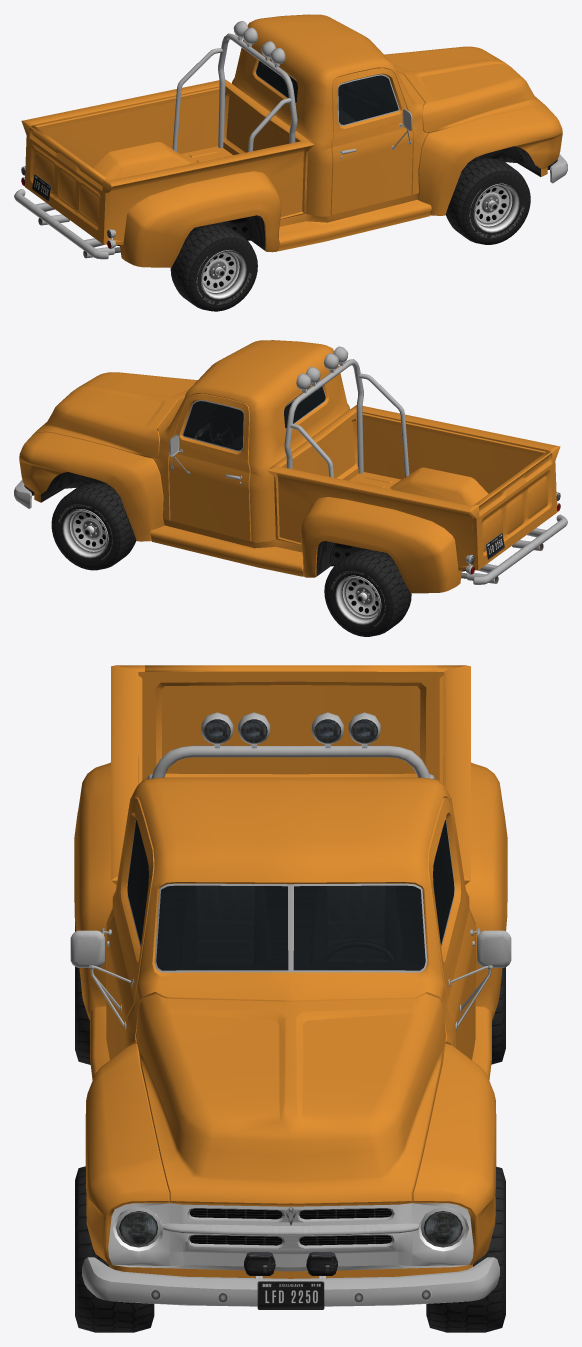
The model's file is rancher_80_lifted.glb.
3 renders of one model, top to bottom at view 1: azimuth 30°, elevation 25°; view 2: azimuth 150°, elevation 25°; view 3: azimuth 270°, elevation 25°, orthographic. The views are drawn at different scales.
Visible parts, largest first — view 1: Rancher50_Body_RNCHR50CSTM_Bodymat_0, Rancher50_Hood_RNCHR50CSTM_Bodymat_0, Rancher50_WheelLift_RR_RO1a_Tire_0, Rancher50_WheelLift_FR_RO1a_Tire_0, Rancher50_Trunkdoor_RNCHR50CSTM_Bodymat_0, Rancher50_ExtraA_UCB_BOTTOM_0, Rancher50_Interior_UCB_Interiors_2_0, Rancher50_Bottom_UCB_BOTTOM_0, Rancher50_Glass_Passangers_UCB_Lights_and_Glass_Transperent_, Rancher50_bumper_rear_A_UCB_BOTTOM_0, Rancher50_Rear_Glass_UCB_Lights_and_Glass_Transperent_0; view 2: Rancher50_Body_RNCHR50CSTM_Bodymat_0, Rancher50_Hood_RNCHR50CSTM_Bodymat_0, Rancher50_WheelLift_RL_RO1a_Tire_0, Rancher50_WheelLift_FL_RO1a_Tire_0, Rancher50_Trunkdoor_RNCHR50CSTM_Bodymat_0, Rancher50_ExtraA_UCB_BOTTOM_0, Rancher50_Bottom_UCB_BOTTOM_0, Rancher50_Interior_UCB_Interiors_2_0, Rancher50_Glass_Driver_UCB_Lights_and_Glass_Transperent_0, Rancher50_bumper_rear_A_UCB_BOTTOM_0, Rancher50_Rear_Glass_UCB_Lights_and_Glass_Transperent_0; view 3: Rancher50_Body_RNCHR50CSTM_Bodymat_0, Rancher50_Hood_RNCHR50CSTM_Bodymat_0, Rancher50_Trunkdoor_RNCHR50CSTM_Bodymat_0, Rancher50_Interior_UCB_Interiors_2_0, Rancher50_Bottom_UCB_BOTTOM_0, Rancher50_Windshield_UCB_Lights_and_Glass_Transperent_0, Rancher50_Bumper_front_B_UCB_BOTTOM_0, Rancher50_ExtraA_UCB_BOTTOM_0, Rancher50_WheelLift_FR_RO1a_Tire_0, Rancher50_WheelLift_FL_RO1a_Tire_0, Rancher50_LFTD_Trim_UCB_BOTTOM_0, Rancher50_Headlights_Glass_UCB_Lights_and_Glass_Transperent_ (+6 smaller).
Boxes of the visible parts, left/top/right/bottom form: Rancher50_Body_RNCHR50CSTM_Bodymat_0: left=21, top=14, right=562, bottom=267; Rancher50_Hood_RNCHR50CSTM_Bodymat_0: left=384, top=46, right=548, bottom=132; Rancher50_WheelLift_RR_RO1a_Tire_0: left=170, top=224, right=257, bottom=311; Rancher50_WheelLift_FR_RO1a_Tire_0: left=445, top=157, right=530, bottom=244; Rancher50_Trunkdoor_RNCHR50CSTM_Bodymat_0: left=27, top=125, right=106, bottom=239; Rancher50_ExtraA_UCB_BOTTOM_0: left=172, top=21, right=297, bottom=151; Rancher50_Interior_UCB_Interiors_2_0: left=257, top=62, right=397, bottom=124; Rancher50_Bottom_UCB_BOTTOM_0: left=23, top=60, right=540, bottom=258; Rancher50_Glass_Passangers_UCB_Lights_and_Glass_Transperent_: left=338, top=75, right=398, bottom=124; Rancher50_bumper_rear_A_UCB_BOTTOM_0: left=14, top=189, right=108, bottom=259; Rancher50_Rear_Glass_UCB_Lights_and_Glass_Transperent_0: left=256, top=61, right=297, bottom=102; Rancher50_Body_RNCHR50CSTM_Bodymat_0: left=19, top=340, right=560, bottom=593; Rancher50_Hood_RNCHR50CSTM_Bodymat_0: left=34, top=372, right=197, bottom=458; Rancher50_WheelLift_RL_RO1a_Tire_0: left=324, top=549, right=411, bottom=636; Rancher50_WheelLift_FL_RO1a_Tire_0: left=51, top=483, right=136, bottom=570; Rancher50_Trunkdoor_RNCHR50CSTM_Bodymat_0: left=475, top=451, right=554, bottom=564; Rancher50_ExtraA_UCB_BOTTOM_0: left=284, top=346, right=409, bottom=477; Rancher50_Bottom_UCB_BOTTOM_0: left=41, top=386, right=559, bottom=583; Rancher50_Interior_UCB_Interiors_2_0: left=184, top=387, right=324, bottom=449; Rancher50_Glass_Driver_UCB_Lights_and_Glass_Transperent_0: left=183, top=401, right=243, bottom=450; Rancher50_bumper_rear_A_UCB_BOTTOM_0: left=473, top=514, right=567, bottom=584; Rancher50_Rear_Glass_UCB_Lights_and_Glass_Transperent_0: left=284, top=386, right=325, bottom=428; Rancher50_Body_RNCHR50CSTM_Bodymat_0: left=74, top=665, right=507, bottom=1278; Rancher50_Hood_RNCHR50CSTM_Bodymat_0: left=136, top=993, right=445, bottom=1204; Rancher50_Trunkdoor_RNCHR50CSTM_Bodymat_0: left=144, top=665, right=437, bottom=779; Rancher50_Interior_UCB_Interiors_2_0: left=128, top=820, right=453, bottom=969; Rancher50_Bottom_UCB_BOTTOM_0: left=101, top=762, right=480, bottom=1271; Rancher50_Windshield_UCB_Lights_and_Glass_Transperent_0: left=156, top=885, right=425, bottom=970; Rancher50_Bumper_front_B_UCB_BOTTOM_0: left=82, top=1252, right=499, bottom=1306; Rancher50_ExtraA_UCB_BOTTOM_0: left=147, top=712, right=434, bottom=779; Rancher50_WheelLift_FR_RO1a_Tire_0: left=75, top=1166, right=154, bottom=1332; Rancher50_WheelLift_FL_RO1a_Tire_0: left=426, top=1166, right=505, bottom=1332; Rancher50_LFTD_Trim_UCB_BOTTOM_0: left=70, top=930, right=511, bottom=1029; Rancher50_Headlights_Glass_UCB_Lights_and_Glass_Transperent_: left=119, top=1211, right=462, bottom=1245.
Size of the model in its own units: 4.95 by 2.14 by 1.97.
Materials: 8 (7 with a texture image).
